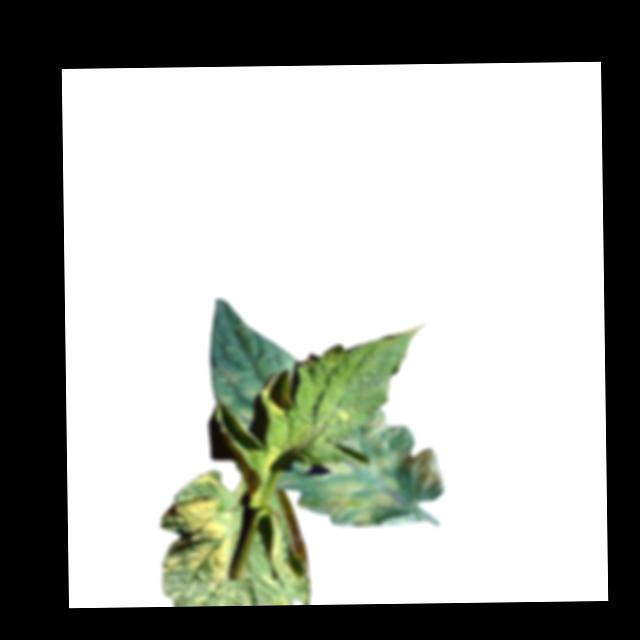Leaf_Mold: (295, 409, 447, 525), (163, 468, 238, 584), (211, 365, 261, 431), (263, 370, 294, 417)
